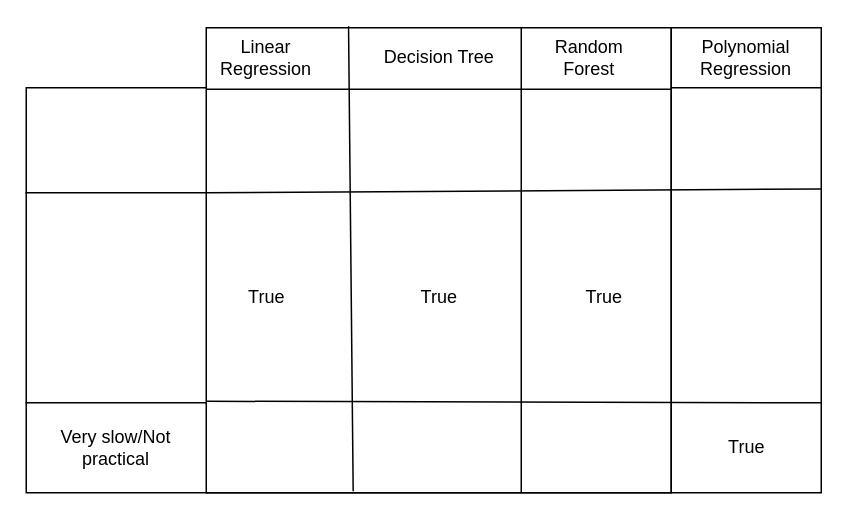
This 849x521 diagram has some shape labels left out. Each missing label, with the box of its shape:
Fast: (25, 86, 206, 193)
Manageable: (25, 191, 206, 403)
